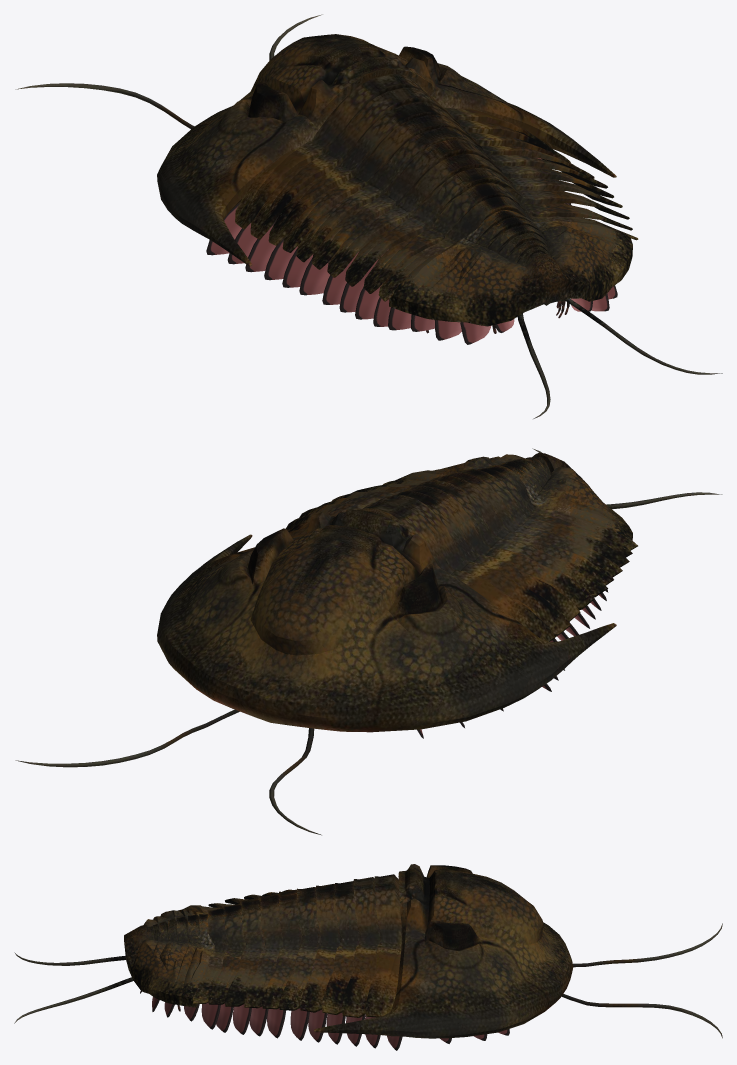
The model's file is trilobite.glb.
The picture shows the model from 3 angles, top to bottom: view 1: azimuth 30°, elevation 25°; view 2: azimuth 150°, elevation 25°; view 3: azimuth 270°, elevation 25°; orthographic projection. The views are drawn at different scales.
Visible parts, largest first — view 1: Object_2; view 2: Object_2; view 3: Object_2.
Part boxes in pixels (x1,y1,x2,y2): Object_2: (15, 14, 722, 418); Object_2: (15, 448, 722, 835); Object_2: (14, 864, 722, 1050).
Bounding box in the file's own units: 0.4656 × 0.2052 × 1.
Materials: 5 (5 with a texture image).
